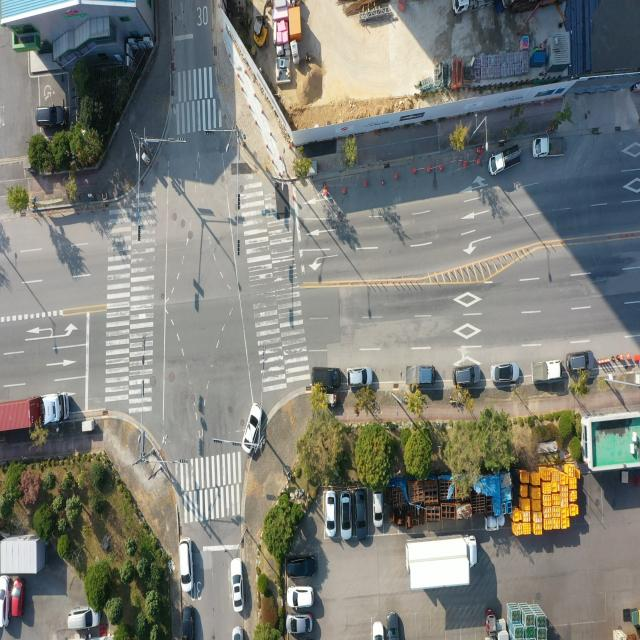car: (243, 402, 263, 453), (68, 608, 100, 634), (312, 364, 342, 390), (35, 104, 66, 128), (179, 540, 192, 594), (287, 556, 316, 580), (232, 560, 245, 612), (454, 364, 482, 388), (354, 490, 367, 540), (342, 492, 355, 540), (492, 362, 520, 384), (11, 582, 26, 621), (288, 587, 314, 609), (348, 364, 373, 386), (568, 352, 594, 373), (328, 491, 339, 537), (289, 617, 313, 637), (0, 574, 9, 626), (182, 604, 194, 640), (372, 492, 382, 526), (386, 613, 397, 640), (372, 622, 383, 640), (233, 626, 244, 640)
large_truck: (0, 394, 70, 436)
medium_truck: (403, 536, 476, 593), (452, 0, 492, 16)
small_truck: (491, 145, 523, 176), (534, 358, 566, 384), (403, 362, 436, 387), (534, 136, 567, 160)
